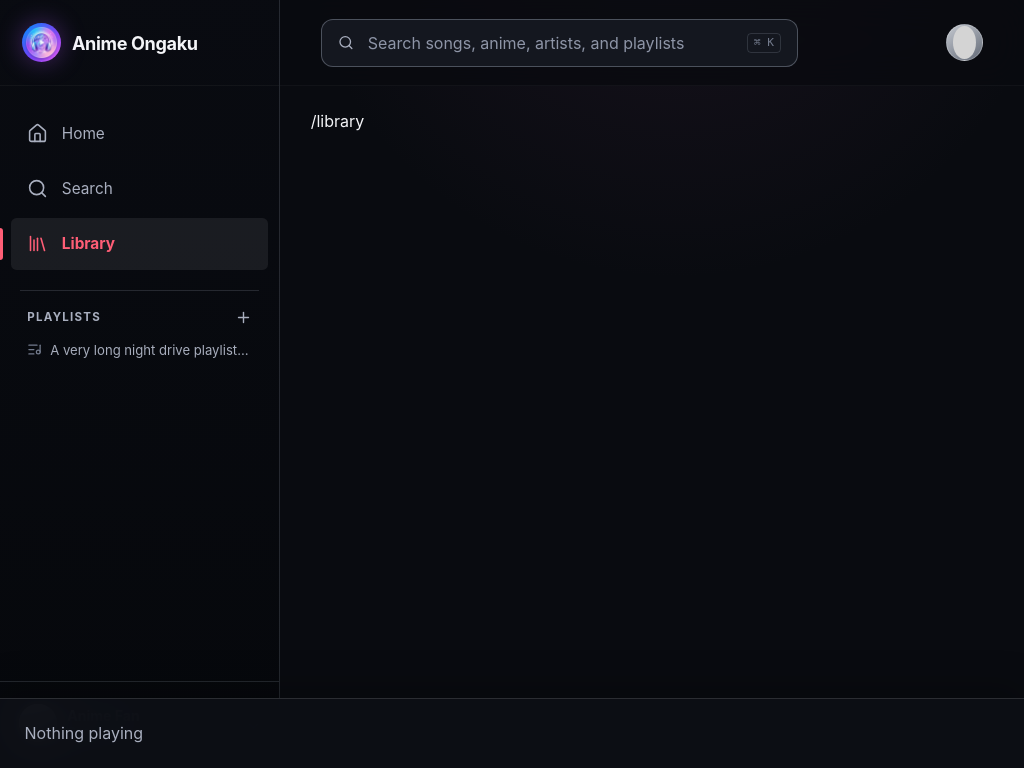
Test: ResponsiveShell › shows an instant library-only suggestion panel and sends Enter to the full search page
The width and height of the screenshot is (1024, 768).
Type "naruto" into the dropdown labelled "Search songs, anime, artists, and playlists". click: (551, 43)
box: [366,32,735,54]
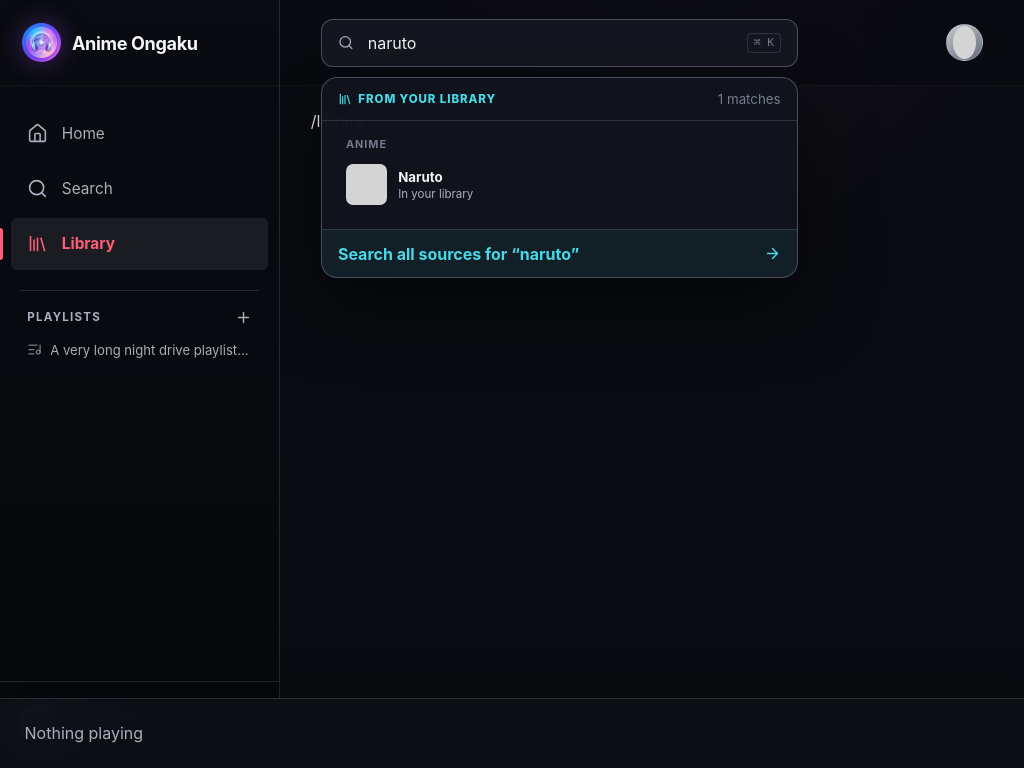
Check: the dialog named "library search suggestions" does not show "AnimeThemes", box [321,77,798,278]
Check: the dialog named "library search suggestions" shows "From your library", box [358,92,496,106]
Press Escape in the dropdown named "Search songs", box [366,32,735,54]
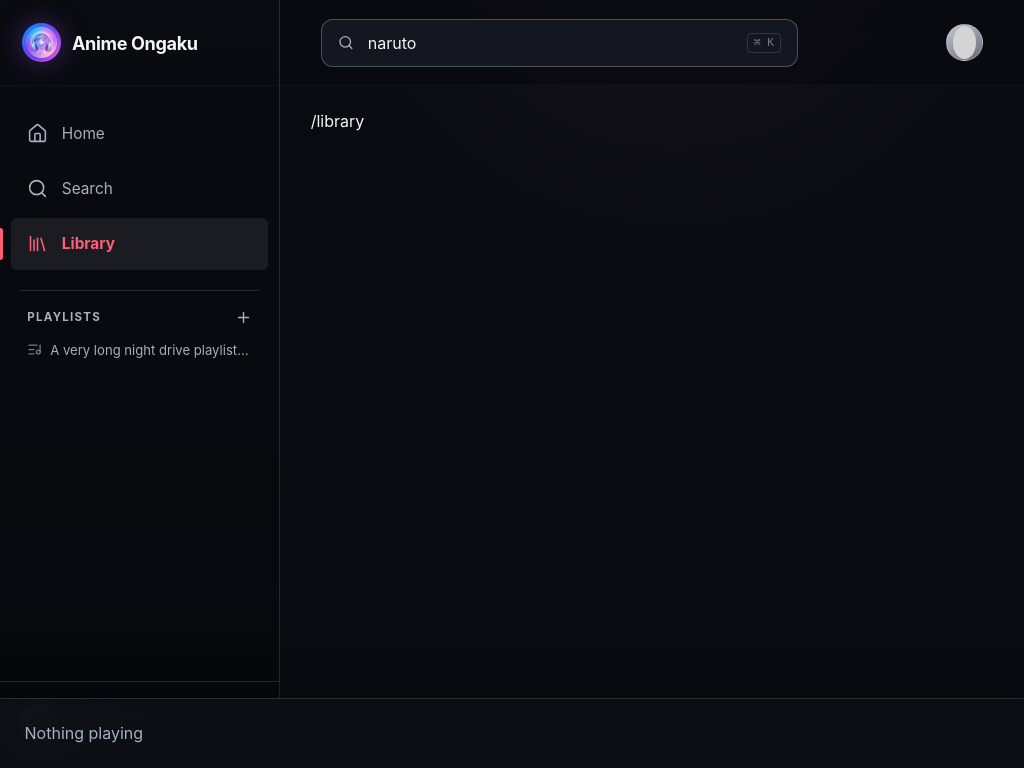
Focus the dropdown named "Search songs". click: (551, 43)
box: [366,32,735,54]
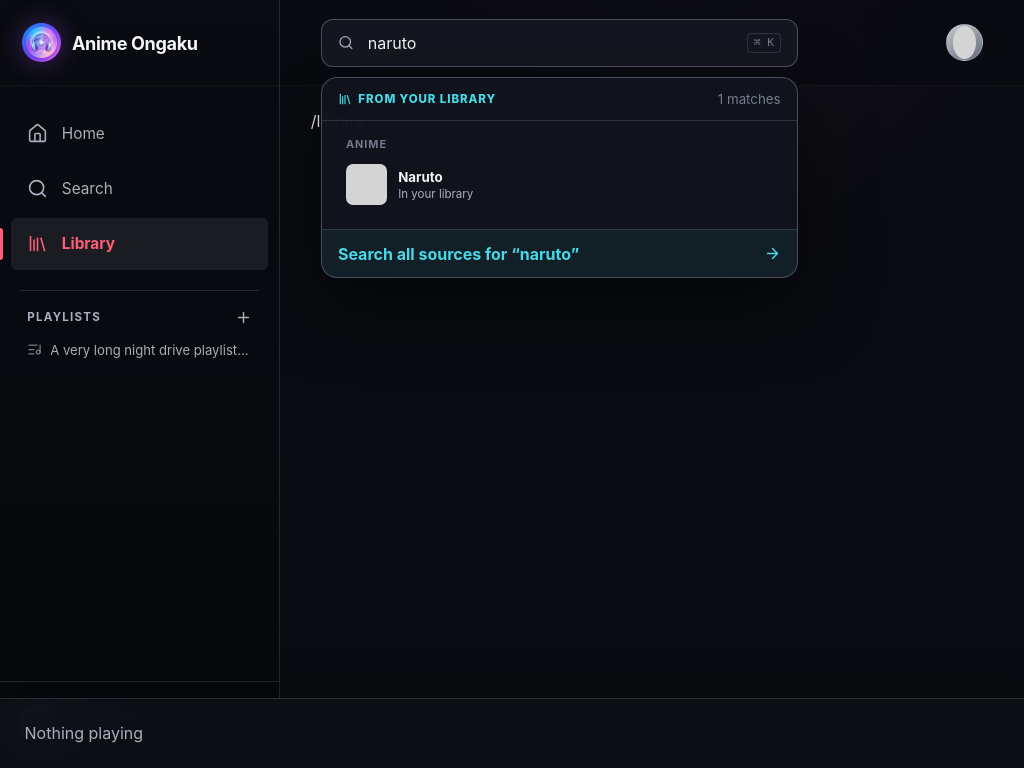
Press Enter in the dropdown named "Search songs", box [366,32,735,54]
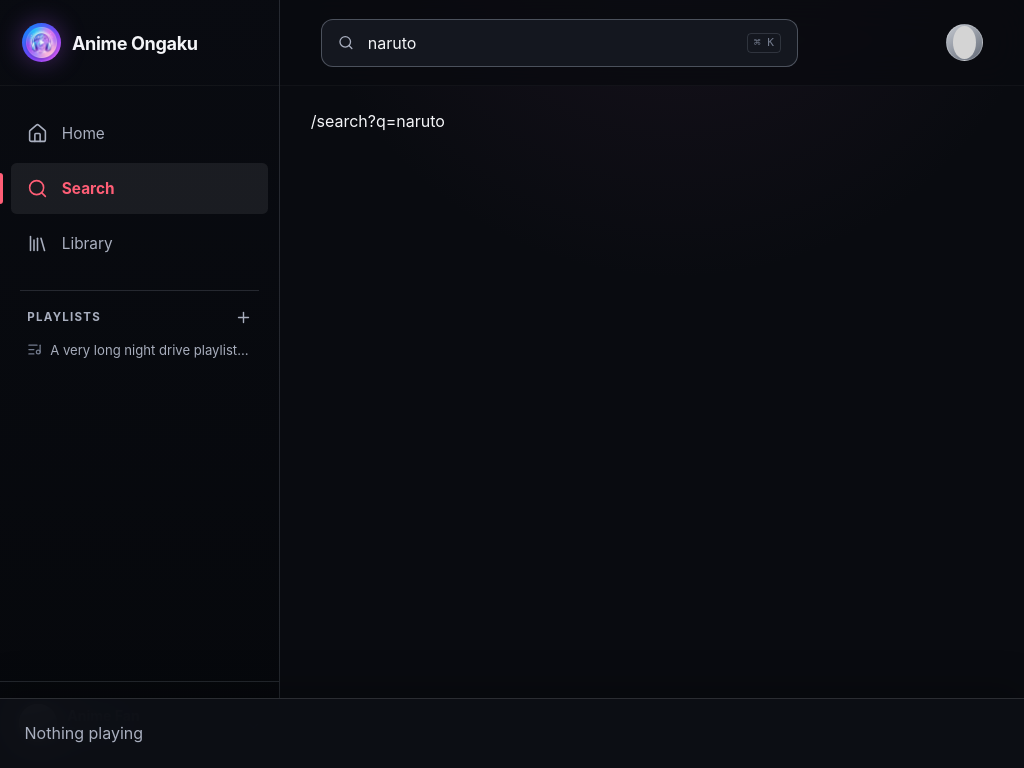
Check: the text named "Current route" reads "/search?q=naruto", box [311,111,445,131]
